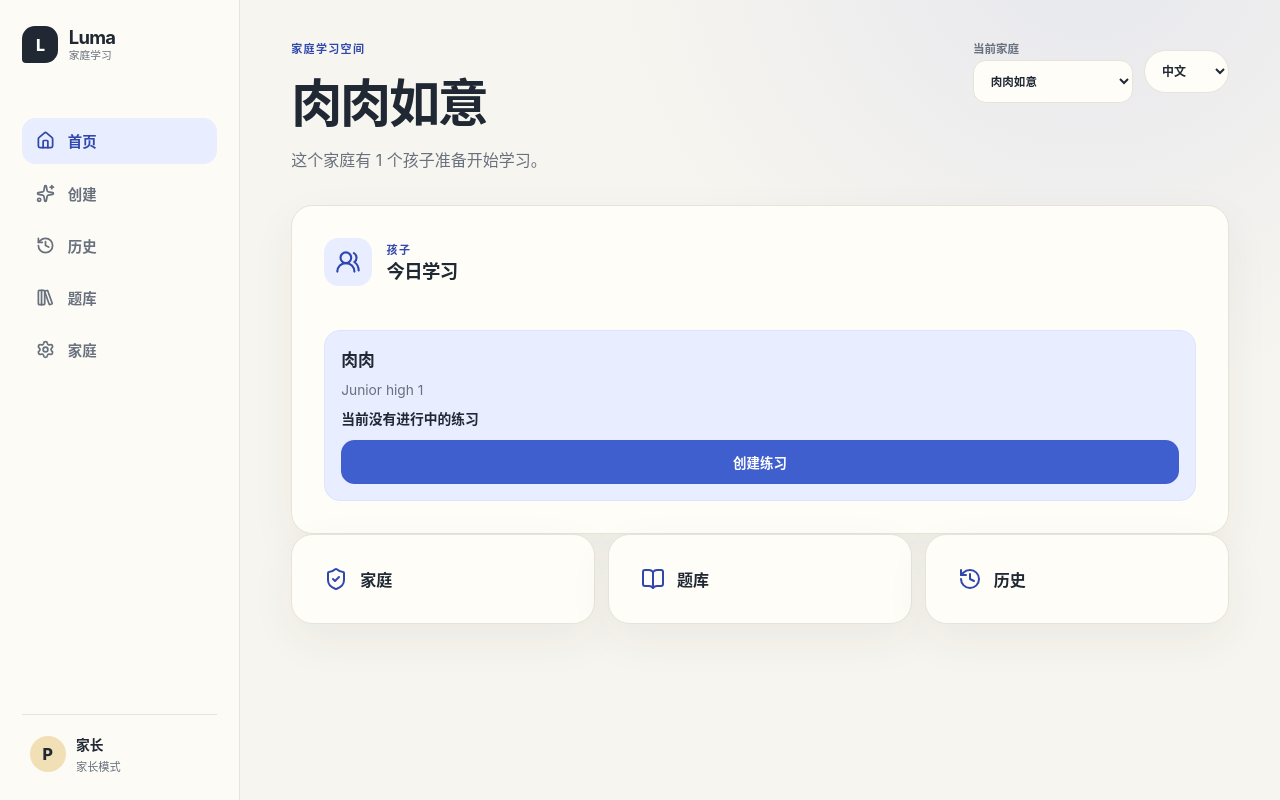
it: ParentDashboard › switches the homepage to another family without mixing child data
Expected: the heading "肉肉如意" is shown, [291,72,487,134]
Select "第二个家庭" in the dropdown labelled "当前家庭": (1053, 82) [973,60,1133,103]
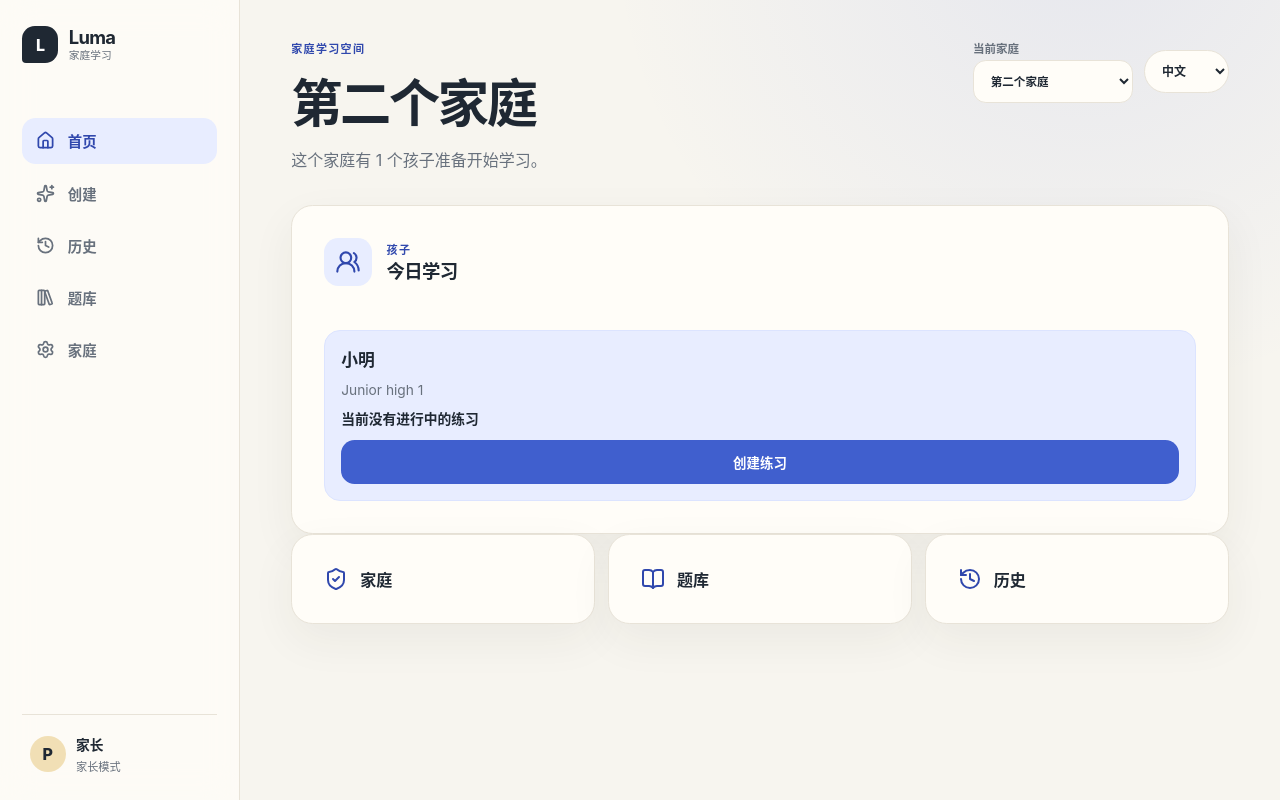
Now the heading "第二个家庭" is shown, box [291,63,547,137]
Now the text "小明" is shown, box [341,350,375,370]
